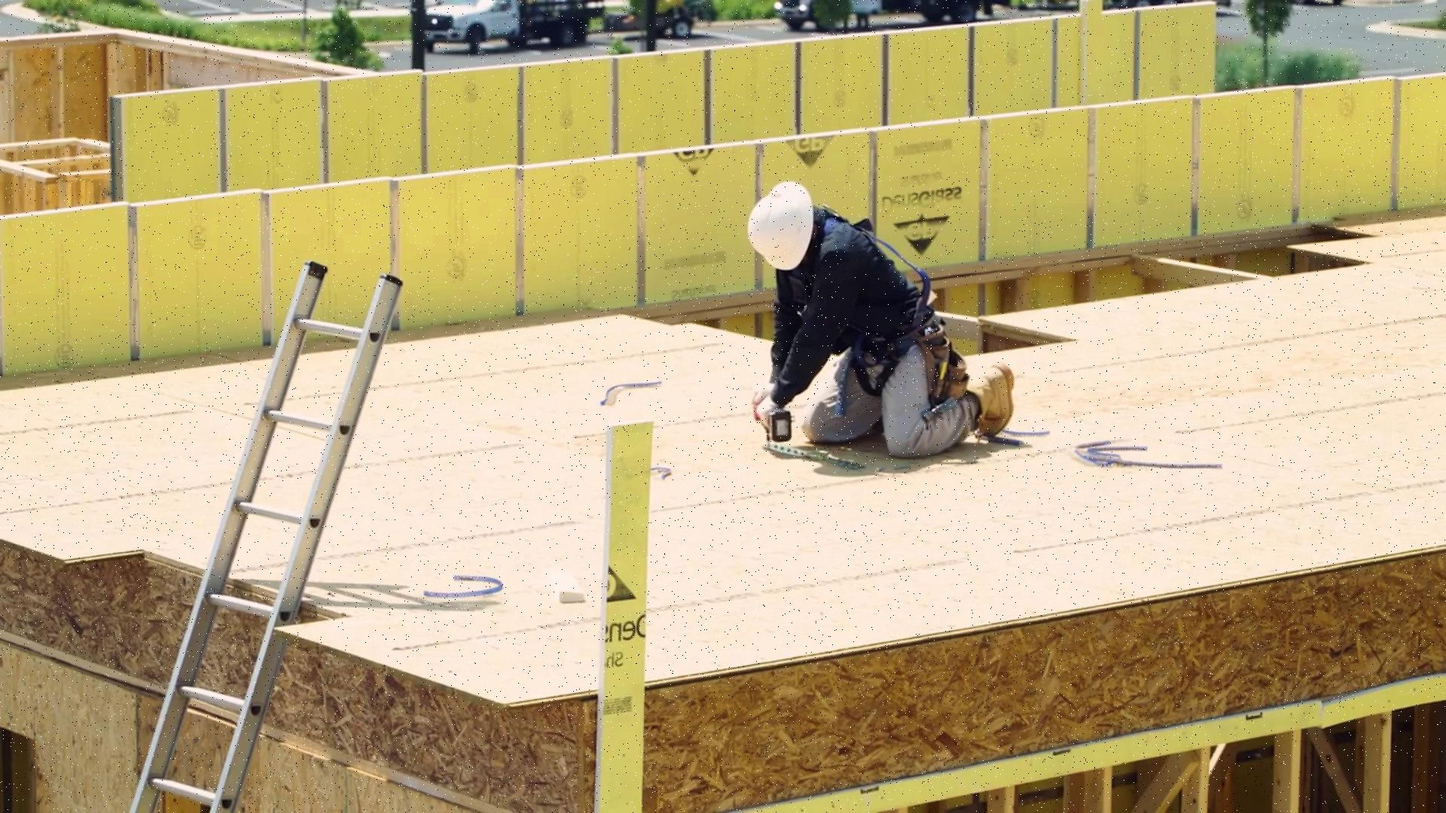Hard_hat: (740, 176, 813, 285)
